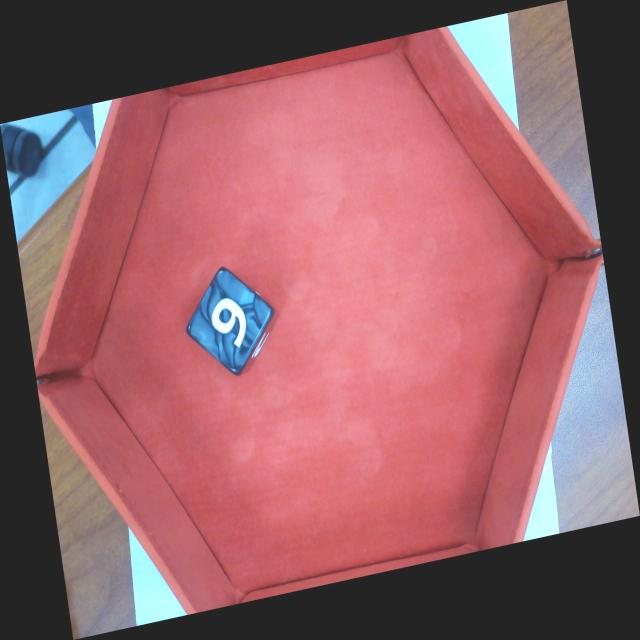dice: (186, 268, 274, 372)
